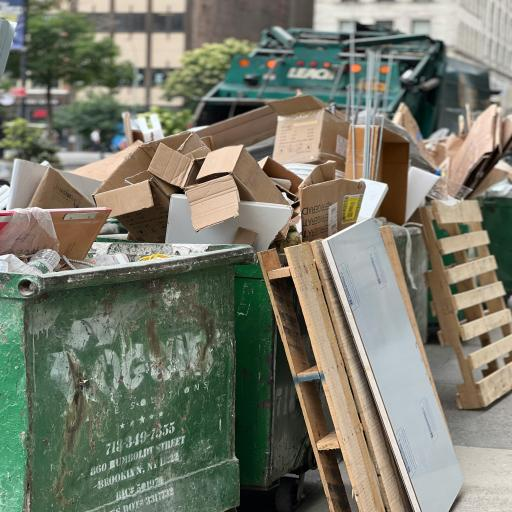Contenedor_Desbordado: (0, 132, 294, 512), (292, 137, 463, 512), (286, 246, 387, 512), (0, 180, 154, 259), (362, 123, 409, 225)
